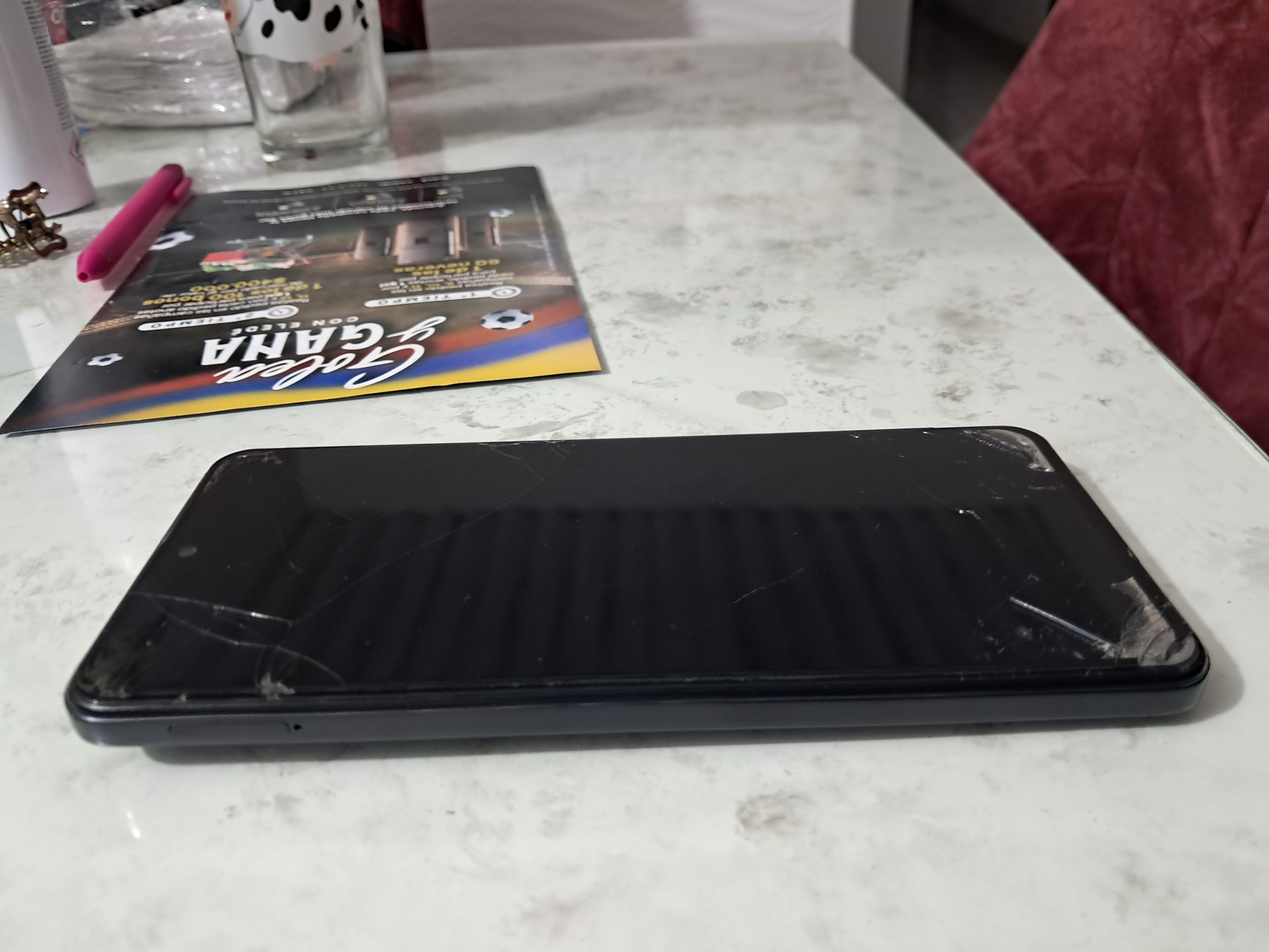phone: (67, 428, 1206, 745)
